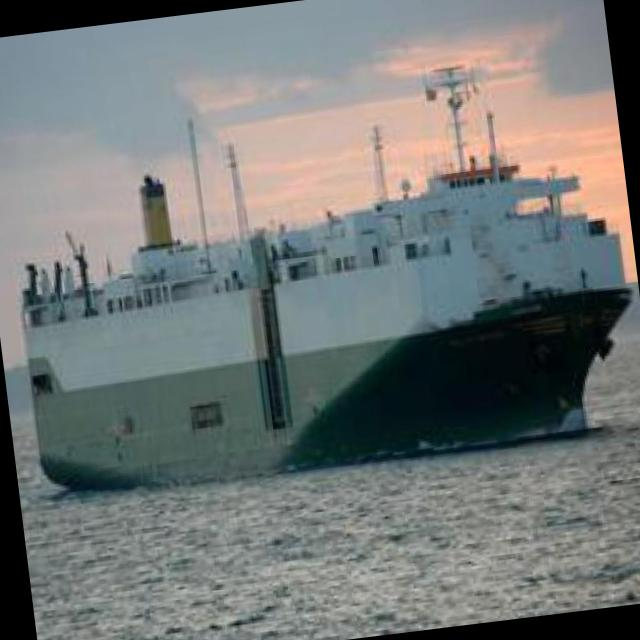boat: (0, 163, 640, 508)
